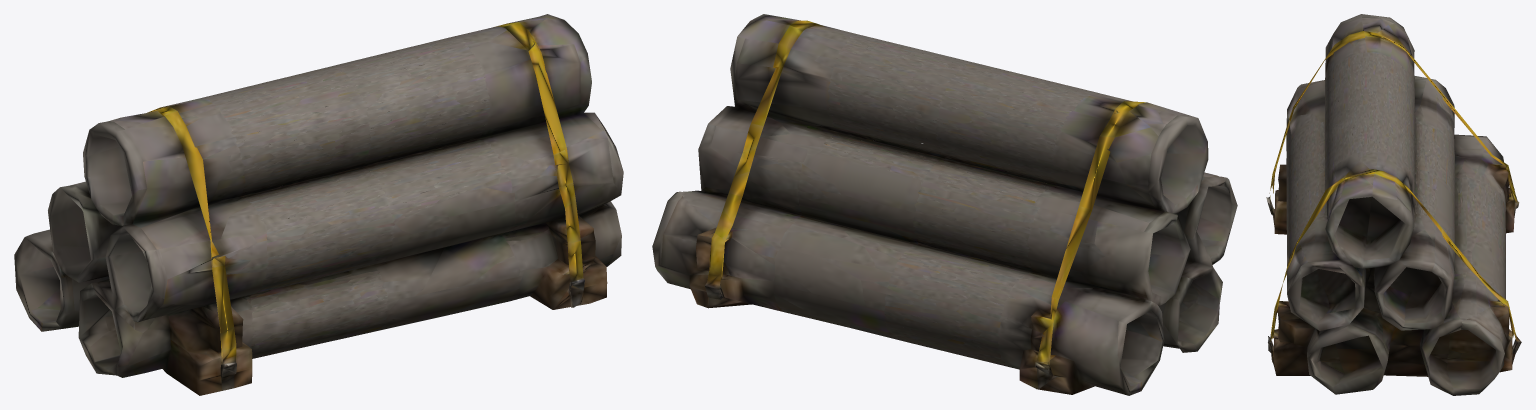
The model's file is veh-j-pipe.glb.
3 renders of one model, left to right at view 1: azimuth 30°, elevation 25°; view 2: azimuth 150°, elevation 25°; view 3: azimuth 270°, elevation 25°, orthographic. The views are drawn at different scales.
Visible parts, largest first — view 1: tripo_node_c9d8f408-ad68-400e-852e-f52820b1d3c7; view 2: tripo_node_c9d8f408-ad68-400e-852e-f52820b1d3c7; view 3: tripo_node_c9d8f408-ad68-400e-852e-f52820b1d3c7.
Part boxes in pixels (x1,y1,x2,y2): tripo_node_c9d8f408-ad68-400e-852e-f52820b1d3c7: (14, 14, 623, 395); tripo_node_c9d8f408-ad68-400e-852e-f52820b1d3c7: (652, 14, 1237, 395); tripo_node_c9d8f408-ad68-400e-852e-f52820b1d3c7: (1266, 14, 1521, 395).
Size of the model in its own units: 0.9795 by 0.4653 by 0.543.
1 material, 1 textured.
